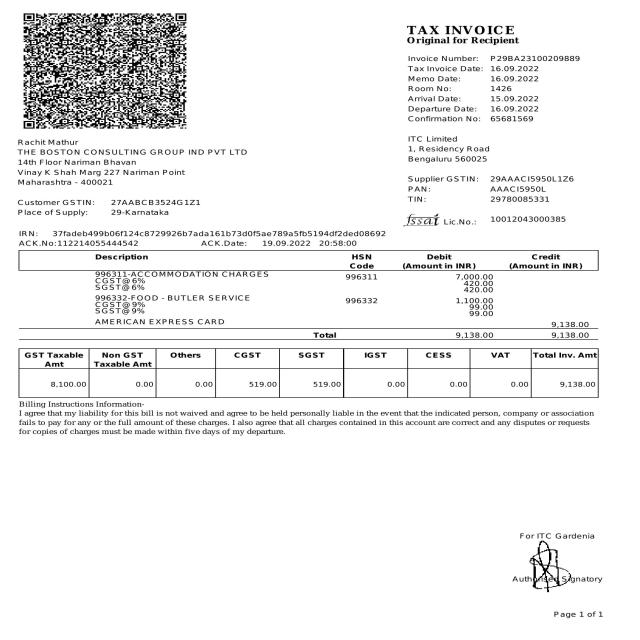QRCode: (22, 10, 190, 132)
